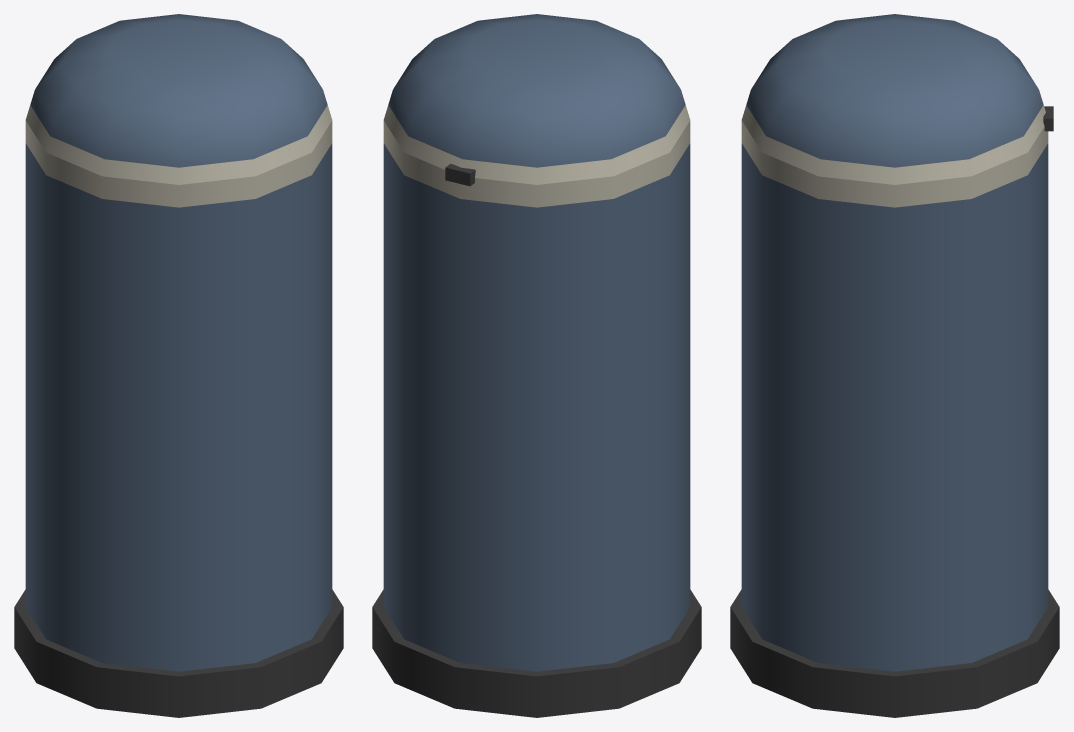
Rendered from TrashCan_01.fbx.
3 renders of one model, left to right at view 1: azimuth 30°, elevation 25°; view 2: azimuth 150°, elevation 25°; view 3: azimuth 270°, elevation 25°, orthographic.
Visible parts, largest first — view 1: TrashCan_01, TrashCan_01_Lid; view 2: TrashCan_01, TrashCan_01_Lid; view 3: TrashCan_01, TrashCan_01_Lid.
Part boxes in pixels (left/top/right/bottom): TrashCan_01: left=14, top=121, right=343, bottom=717; TrashCan_01_Lid: left=25, top=14, right=332, bottom=184; TrashCan_01: left=372, top=121, right=701, bottom=717; TrashCan_01_Lid: left=383, top=14, right=690, bottom=184; TrashCan_01: left=730, top=106, right=1059, bottom=717; TrashCan_01_Lid: left=741, top=14, right=1045, bottom=184.
Size of the model in its own units: 0.3557 by 0.7128 by 0.3557.
